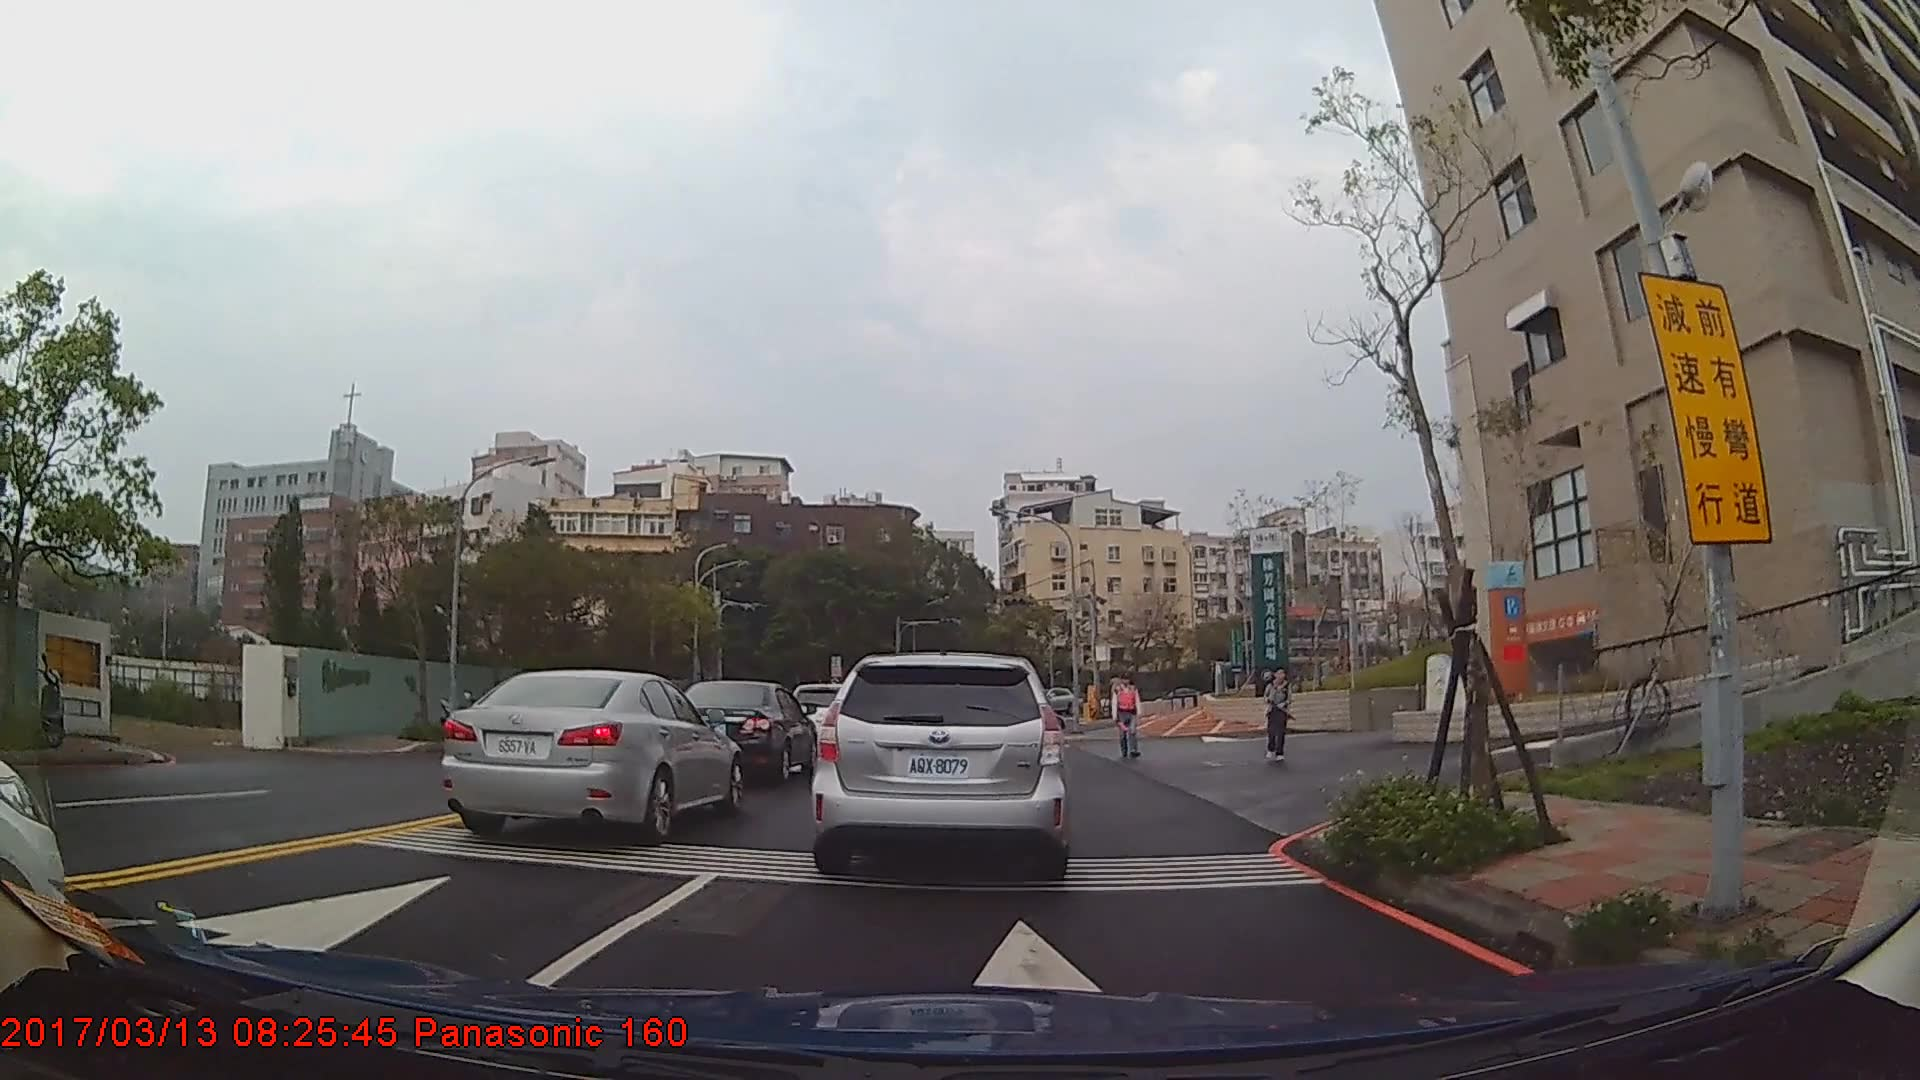pedestrian: (1264, 667, 1293, 765), (1113, 674, 1143, 763)
vehicle: (809, 650, 1071, 879), (439, 669, 742, 842), (667, 678, 815, 784)
